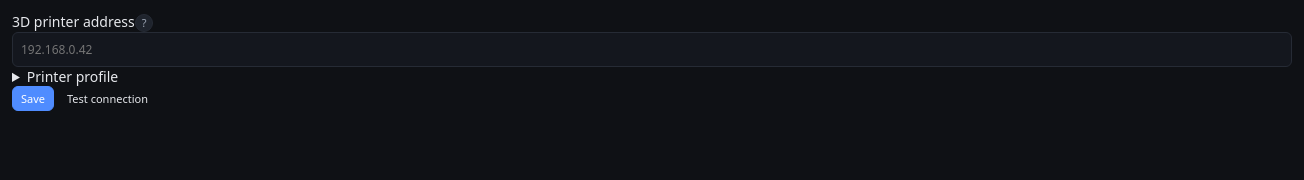
Test case: PrinterSettings › the printer address › says what the printer is doing, not just that it answered
expect the field labelled "3D printer address" is shown: met, box [12,32,1292,66]
Click the button "Test connection". click: coordinates (107, 98)
box: [58,86,157,110]
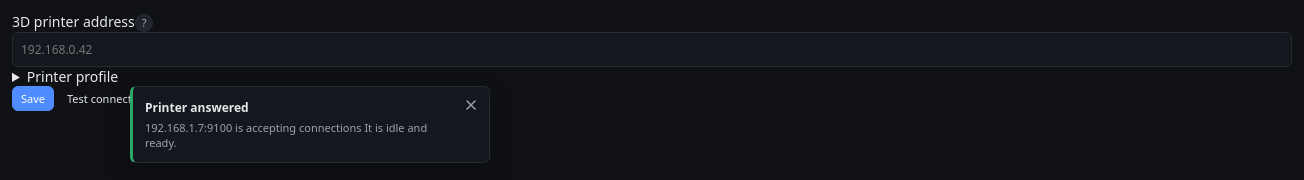
expect the text "idle and ready" is shown: met, box [145,120,427,150]
